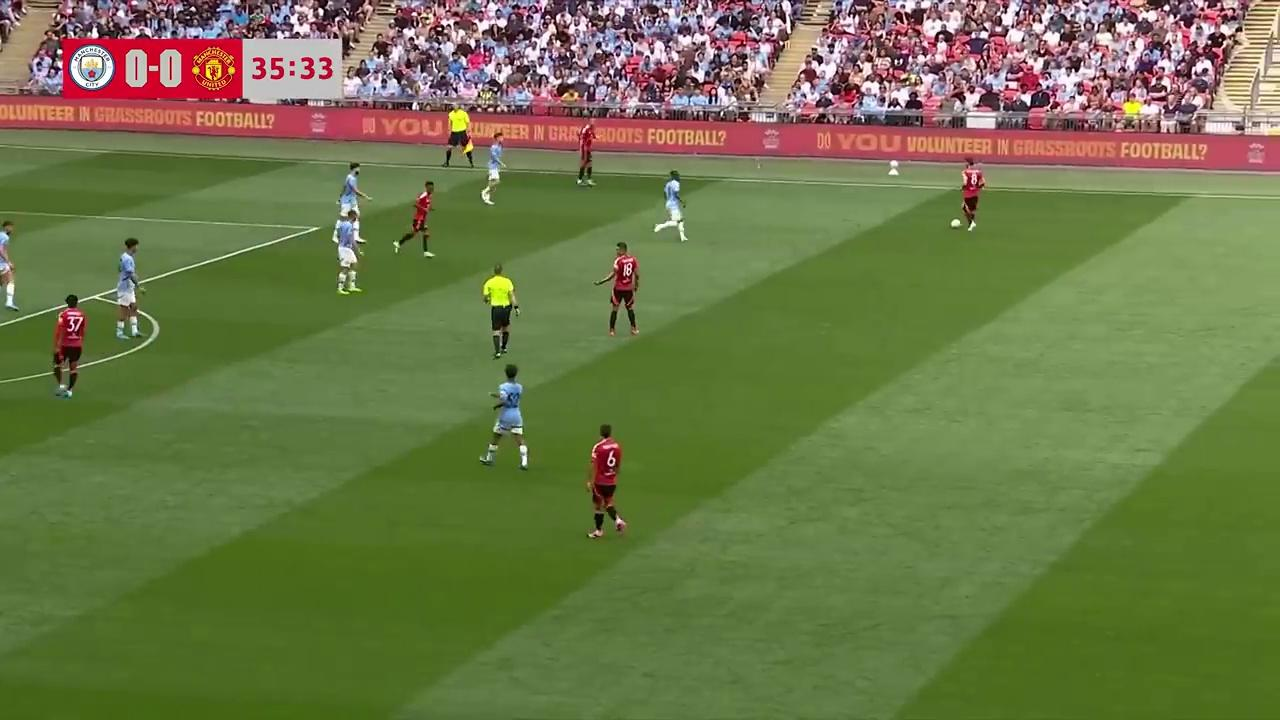ball: (949, 215, 962, 229)
player: (478, 365, 529, 469), (585, 424, 626, 539), (596, 242, 639, 337), (52, 296, 86, 397), (112, 241, 146, 340), (394, 180, 436, 257), (331, 207, 364, 294), (653, 169, 688, 242), (338, 162, 369, 232), (957, 159, 985, 231), (480, 141, 507, 205), (0, 219, 17, 310), (575, 128, 595, 187)
referee: (480, 264, 519, 359), (446, 99, 476, 168)
